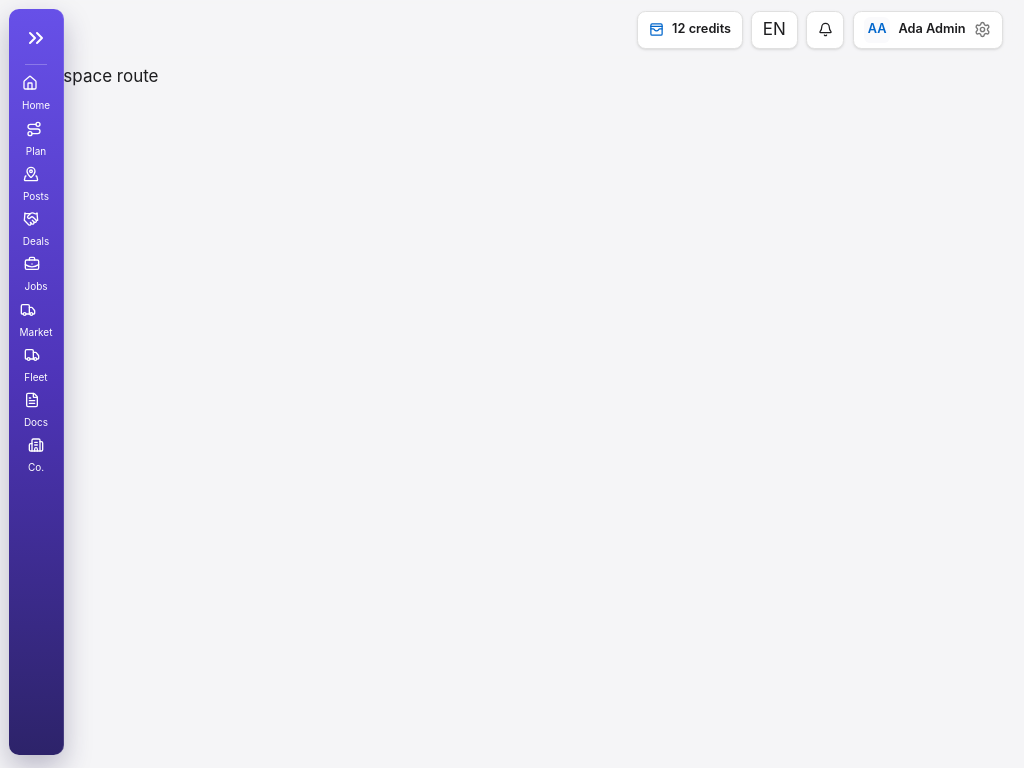
Test: AppShell navigation › syncs direct fleet license routes into the rail and opens the fleet panel when pinned
Click the button named "Pin sidebar".
click(36, 38)  # box [17, 21, 55, 55]
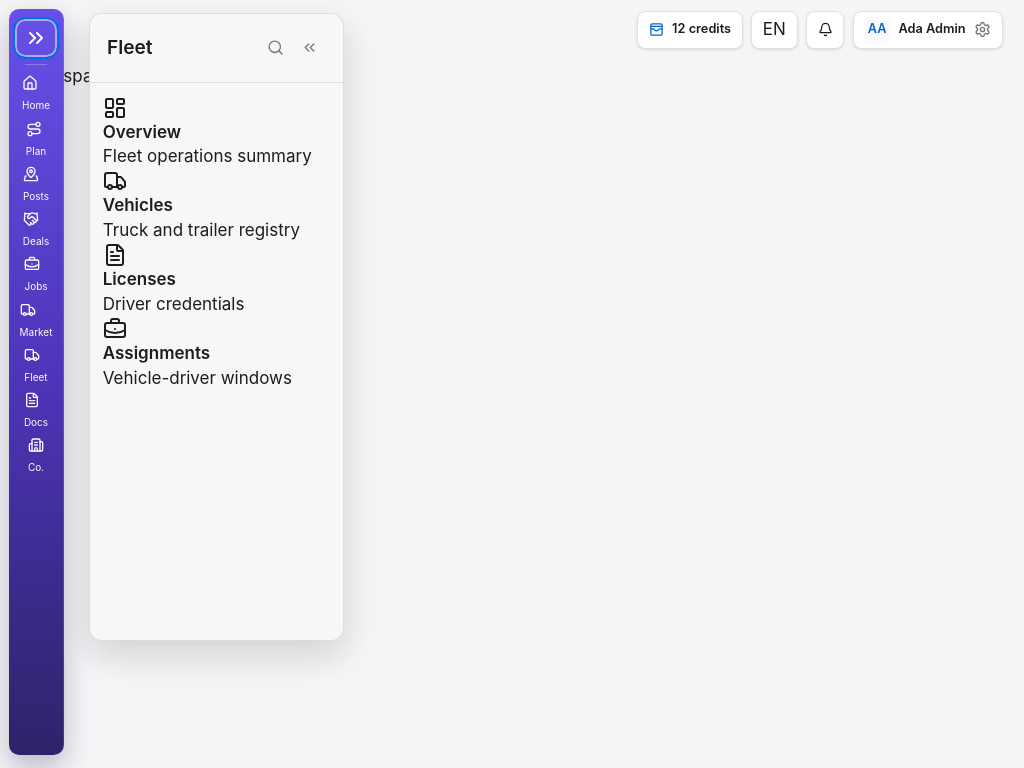
Result: the heading "Fleet" is shown at [107, 33, 153, 63]
Result: the link "Licenses Driver credentials" is shown at [103, 243, 244, 314]
